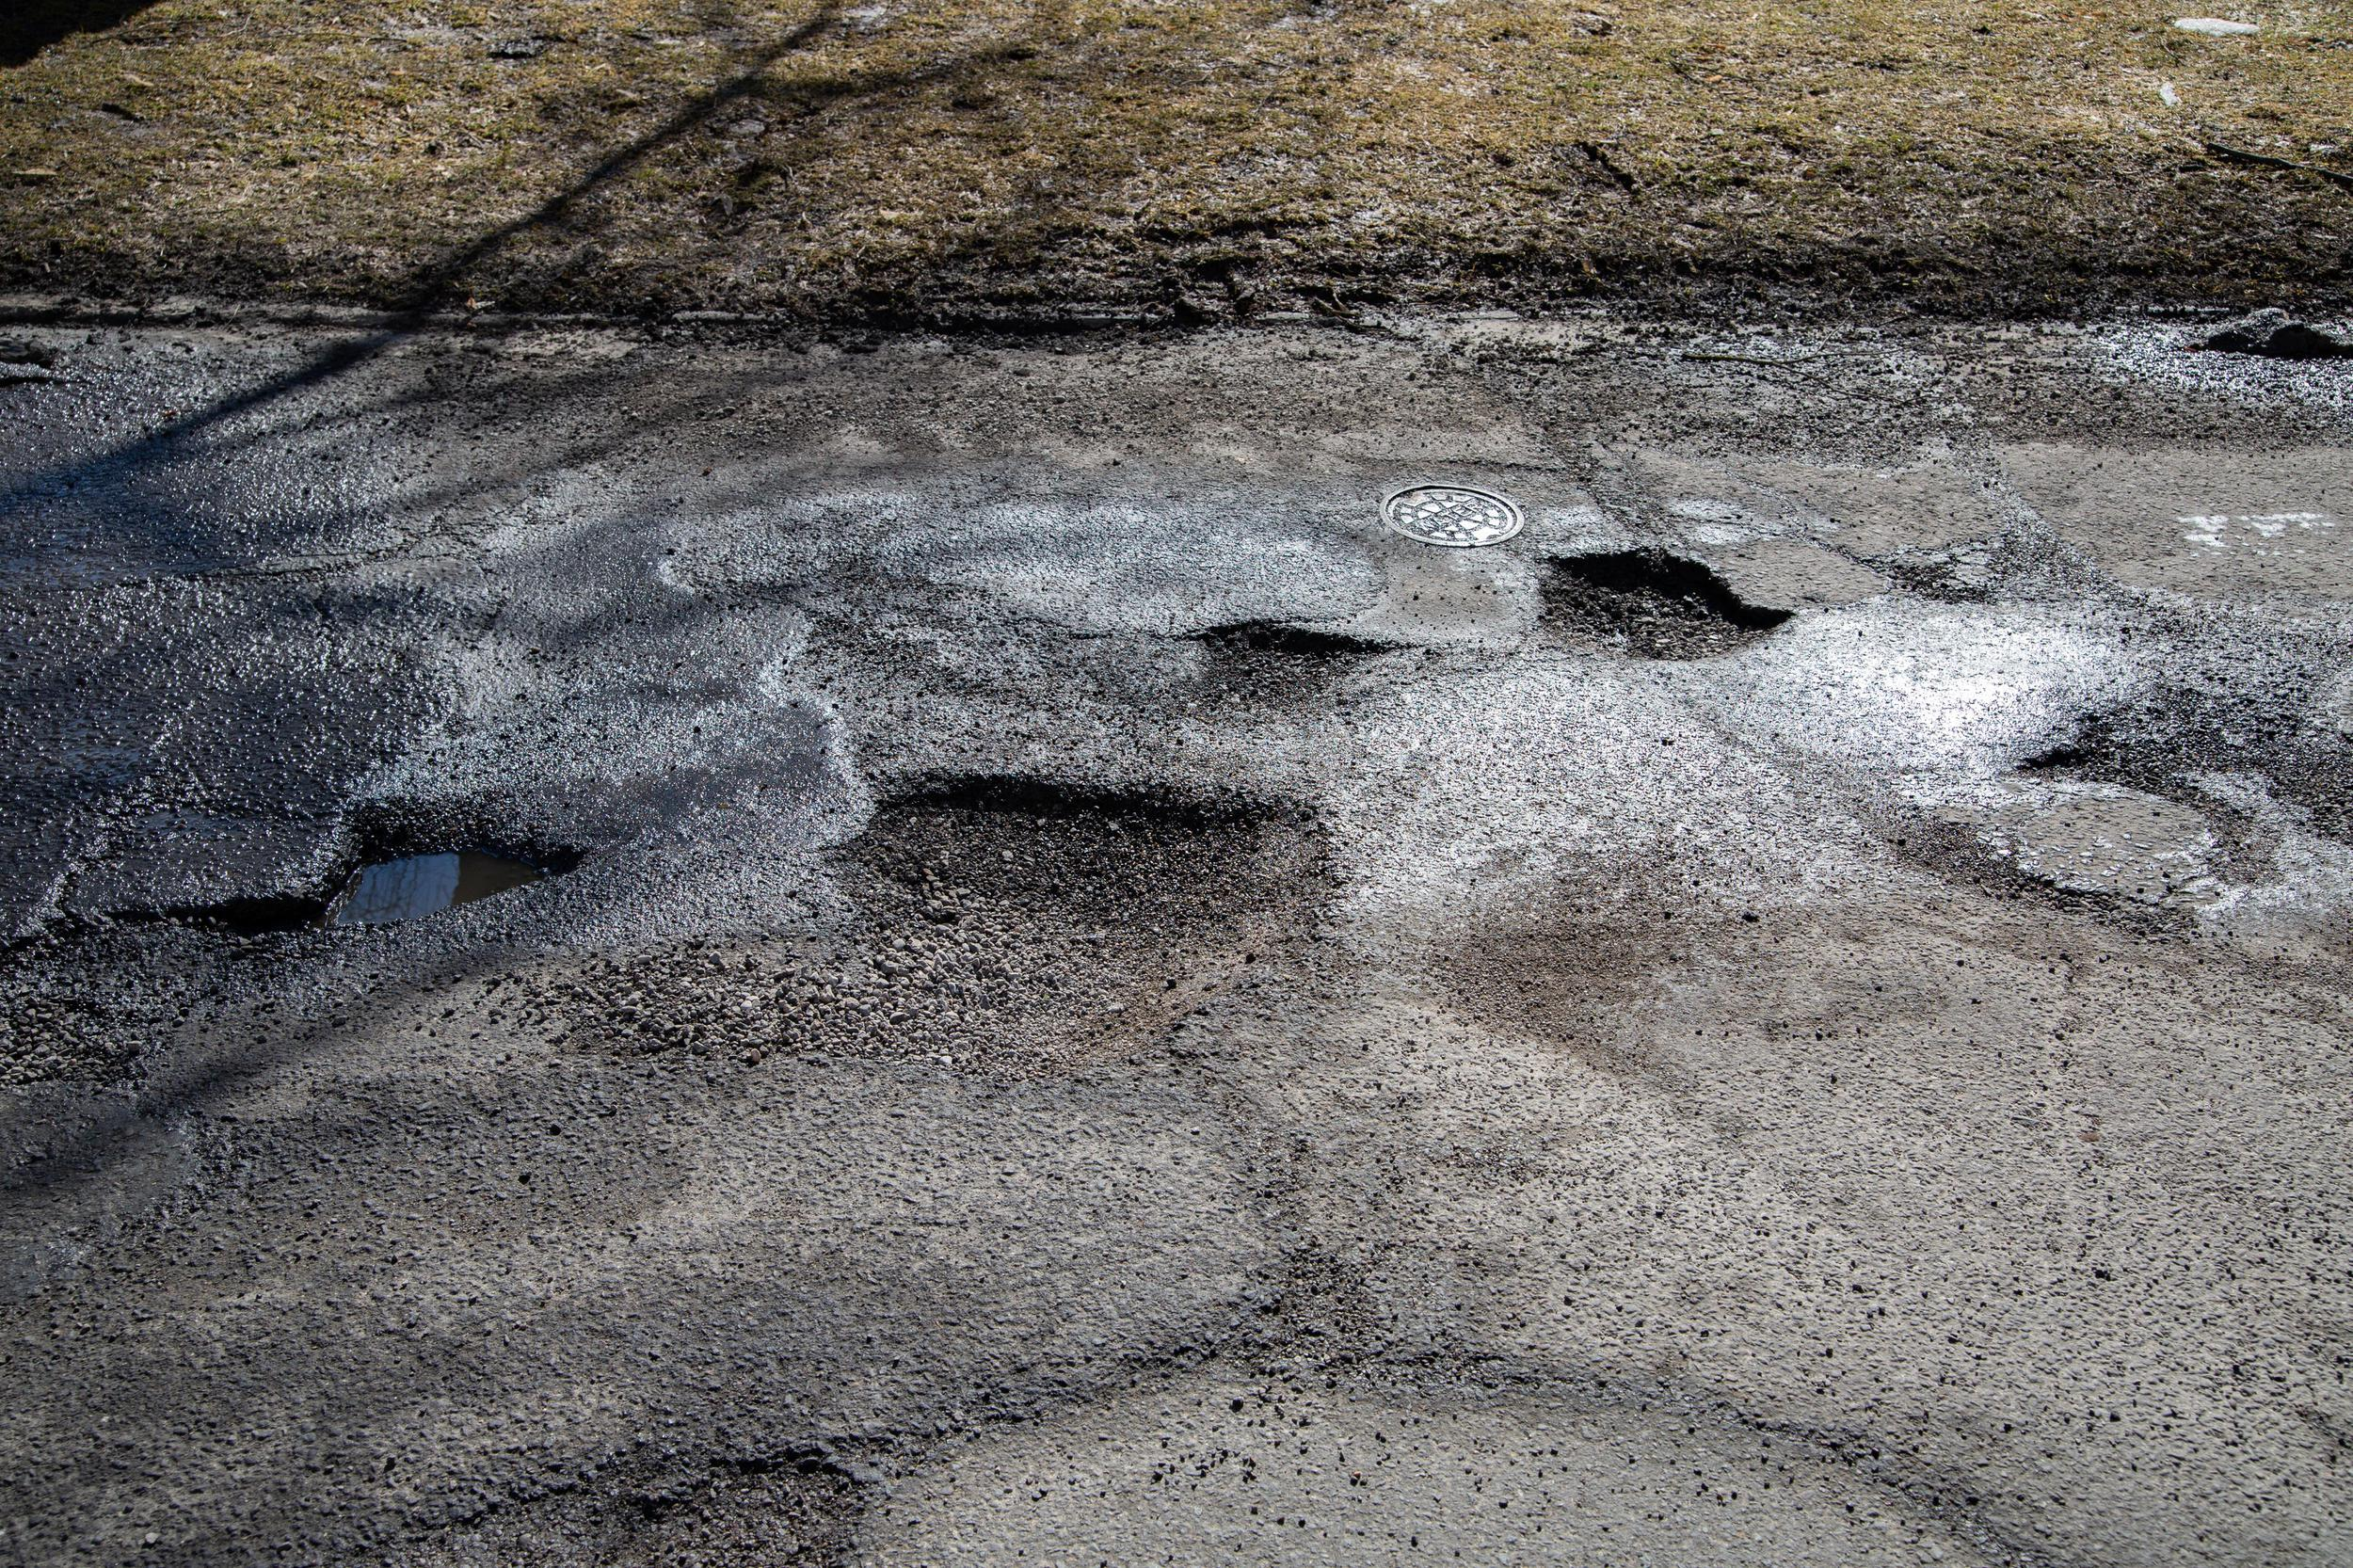Pothole: (0, 787, 626, 980), (824, 758, 1326, 934), (1505, 504, 1805, 705), (2029, 674, 2278, 892), (1186, 612, 1393, 702)
